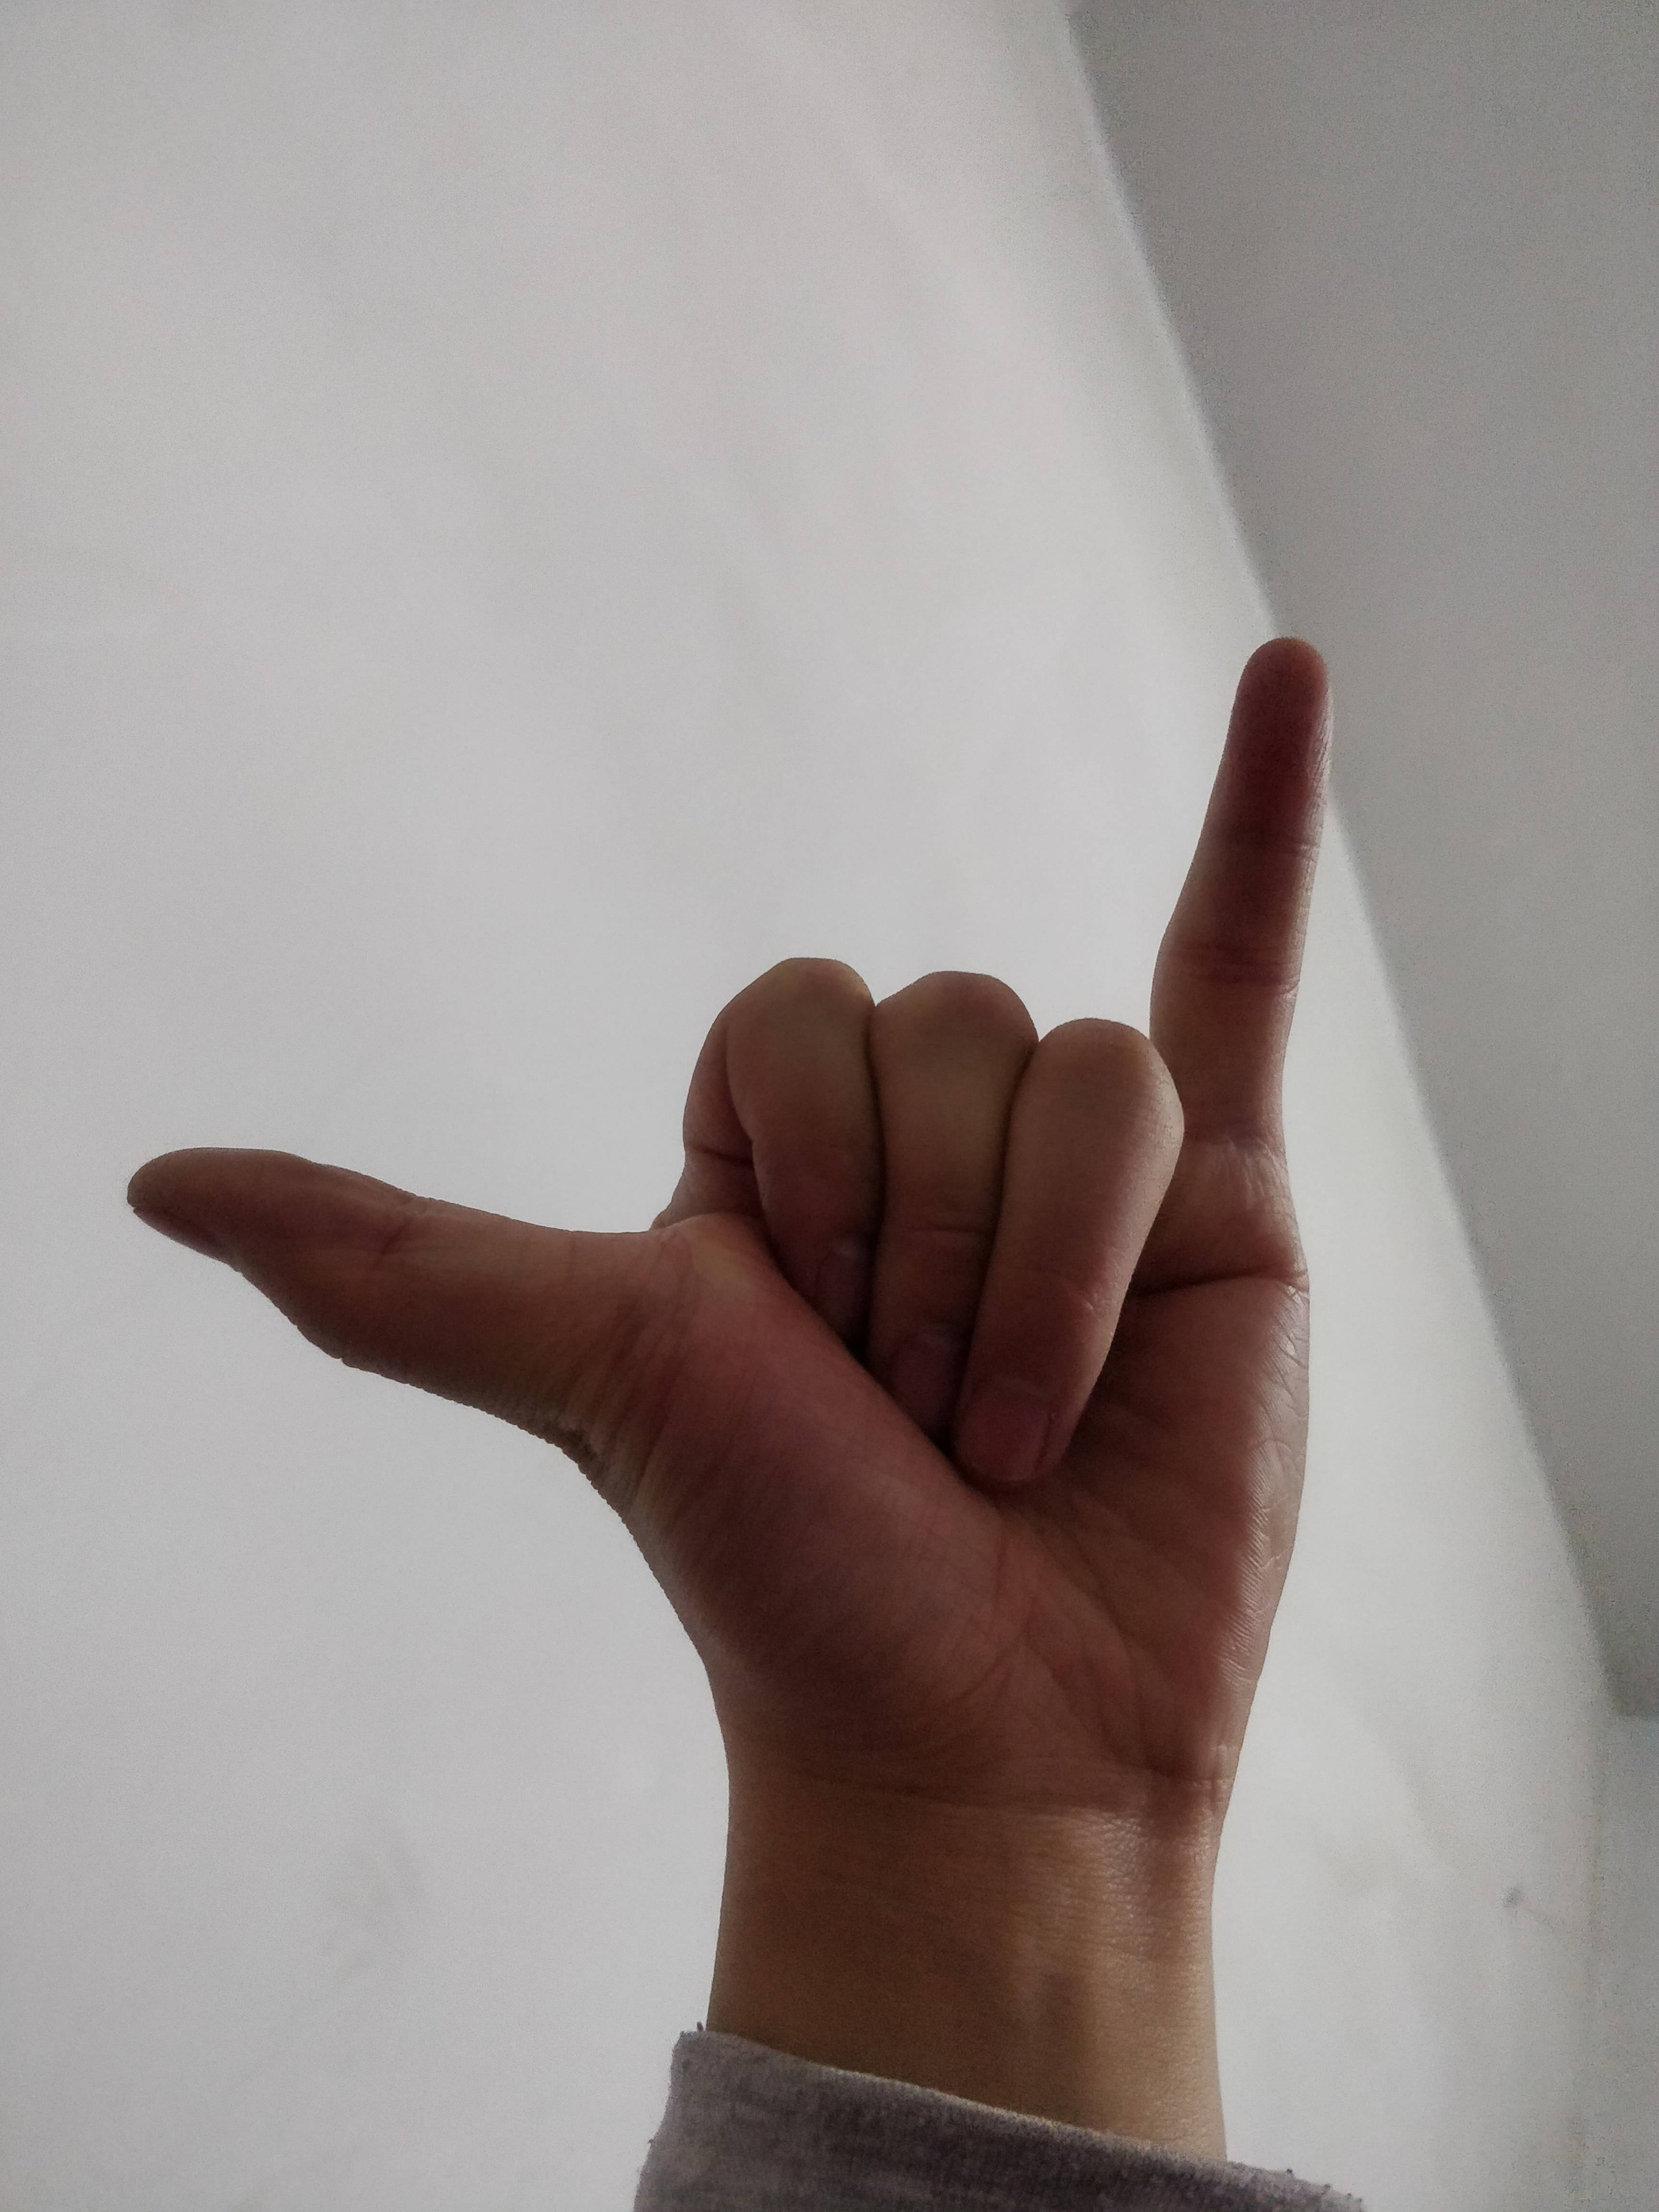clockwise: (125, 617, 1363, 1869)
